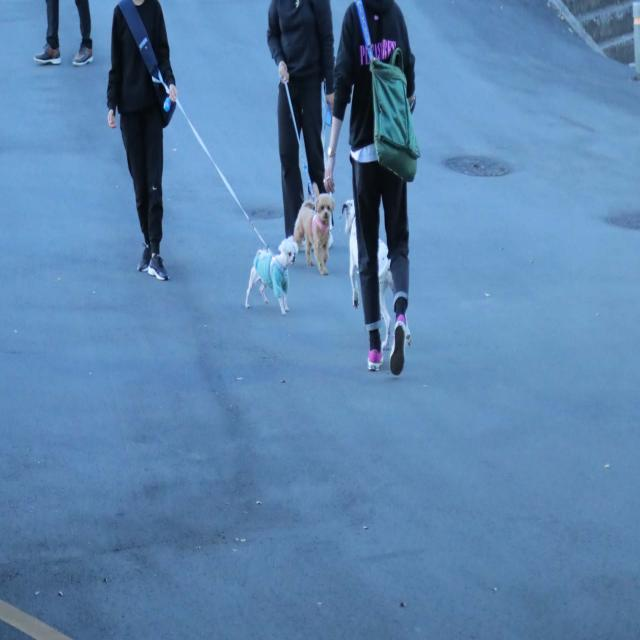Leashed_Dog: (153, 62, 299, 317), (339, 149, 414, 349), (274, 53, 337, 278)
